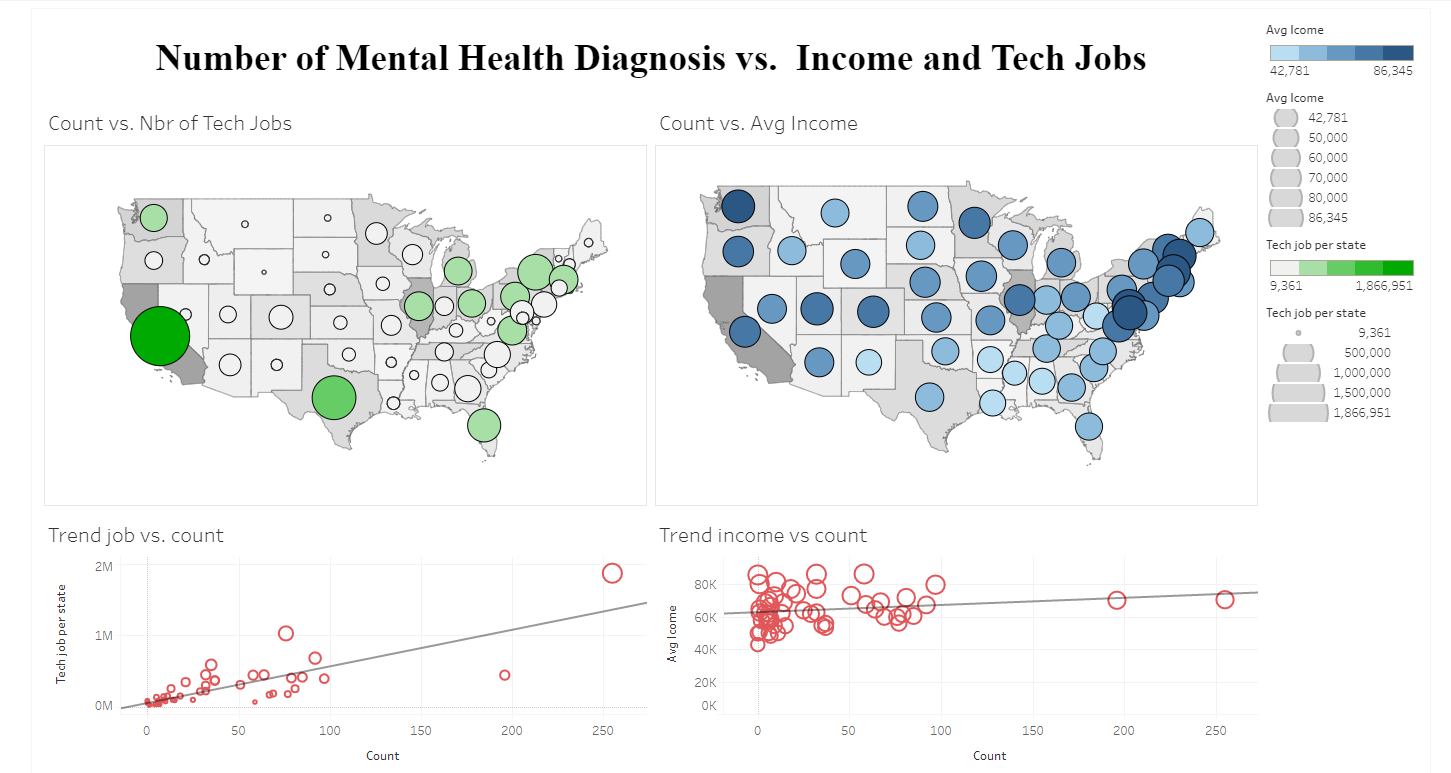

The page's visual inventory and layout, read from the dashboard file:
{"tool":"tableau","page":{"name":"Mental Health Diagnosis vs several variables","canvas":[1000,1000],"units":"permille","ordinal":0},"visuals":[{"type":"worksheet","box":[0,0,1000,1000]},{"type":"worksheet","param":"horz","box":[4.7,8.8,990.6,982.3]},{"type":"worksheet","box":[4.7,8.8,897,982.3]},{"type":"worksheet","box":[4.7,8.8,897,105.1]},{"type":"worksheet","param":"vert","box":[901.7,8.8,93.6,982.3]},{"type":"worksheet","title":"Count vs. Avg Income","mark":"Multipolygon","param":"[federated.1rz9pod0oh0c7p1el70vt1kdyc52].[sum:Avg Icome:qk]","box":[901.7,8.8,93.6,71.9]},{"type":"worksheet","title":"Count vs. Avg Income","mark":"Multipolygon","param":"[federated.1rz9pod0oh0c7p1el70vt1kdyc52].[sum:Avg Icome:qk]","box":[901.7,80.8,93.6,161.5]},{"type":"worksheet","title":"Count vs. Nbr of Tech Jobs","mark":"Multipolygon","box":[4.7,113.9,448.5,534.3]},{"type":"worksheet","title":"Count vs. Avg Income","mark":"Multipolygon","box":[453.2,113.9,448.5,534.3]},{"type":"worksheet","title":"Count vs. Nbr of Tech Jobs","mark":"Multipolygon","param":"[federated.1rz9pod0oh0c7p1el70vt1kdyc52].[sum:Tech job per state:qk]","box":[901.7,242.2,93.6,71.9]},{"type":"worksheet","title":"Count vs. Nbr of Tech Jobs","mark":"Multipolygon","param":"[federated.1rz9pod0oh0c7p1el70vt1kdyc52].[sum:Tech job per state:qk]","box":[901.7,314.2,93.6,139.4]},{"type":"worksheet","title":"Trend job vs. count","mark":"Shape","rows":["Tech job per state"],"cols":["count"],"box":[4.7,648.2,448.5,342.9]},{"type":"worksheet","title":"Trend income vs count","mark":"Automatic","rows":["Avg Icome"],"cols":["count"],"box":[453.2,648.2,448.5,342.9]}]}

Visuals, with their boxes on the dashboard's canvas, which has no fixed pixel size, in thousandths of its width and height (x1, y1, x2, y2). These are canvas units, not pixel positions in the 1451x773 screenshot, which may show the page scaled, cropped or inside an application window:
worksheet: left=0, top=0, right=1000, bottom=1000
worksheet: left=5, top=9, right=995, bottom=991
worksheet: left=5, top=9, right=902, bottom=991
worksheet: left=5, top=9, right=902, bottom=114
worksheet: left=902, top=9, right=995, bottom=991
"Count vs. Avg Income" worksheet (Multipolygon marks): left=902, top=9, right=995, bottom=81
"Count vs. Avg Income" worksheet (Multipolygon marks): left=902, top=81, right=995, bottom=242
"Count vs. Nbr of Tech Jobs" worksheet (Multipolygon marks): left=5, top=114, right=453, bottom=648
"Count vs. Avg Income" worksheet (Multipolygon marks): left=453, top=114, right=902, bottom=648
"Count vs. Nbr of Tech Jobs" worksheet (Multipolygon marks): left=902, top=242, right=995, bottom=314
"Count vs. Nbr of Tech Jobs" worksheet (Multipolygon marks): left=902, top=314, right=995, bottom=454
"Trend job vs. count" worksheet (Shape marks): left=5, top=648, right=453, bottom=991
"Trend income vs count" worksheet: left=453, top=648, right=902, bottom=991
